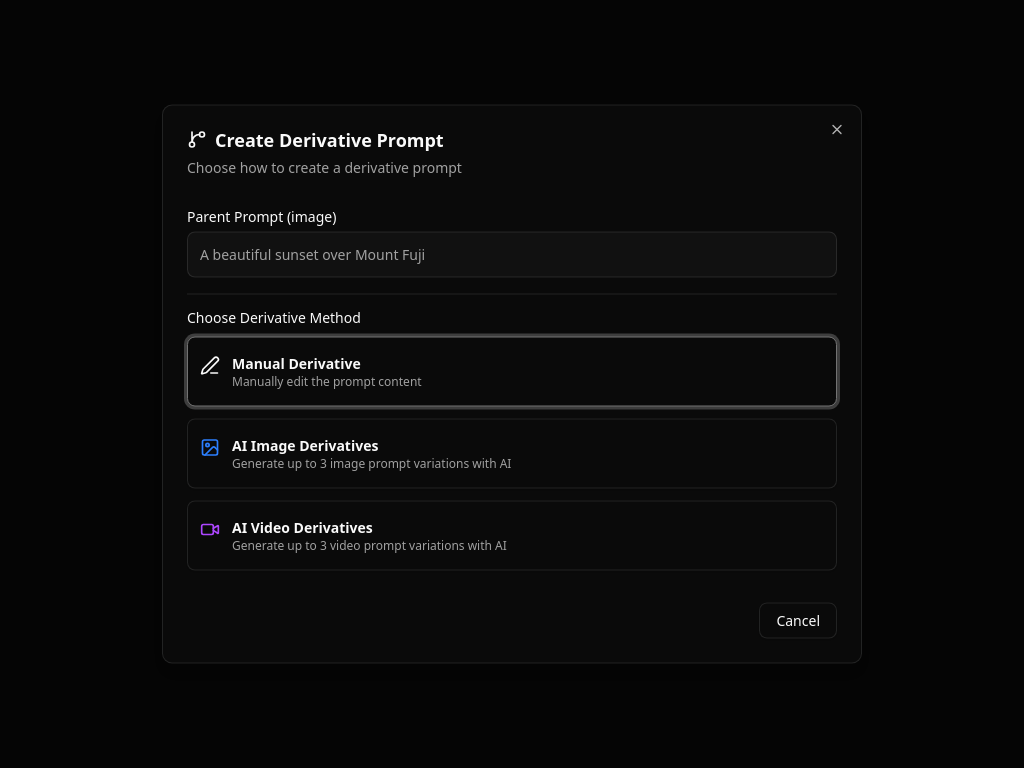
it: DerivativePromptModal › Manual Mode › should switch to manual mode when Manual Derivative is clicked
The width and height of the screenshot is (1024, 768).
Click the text "Manual Derivative" at [296, 363], box [232, 354, 361, 372]
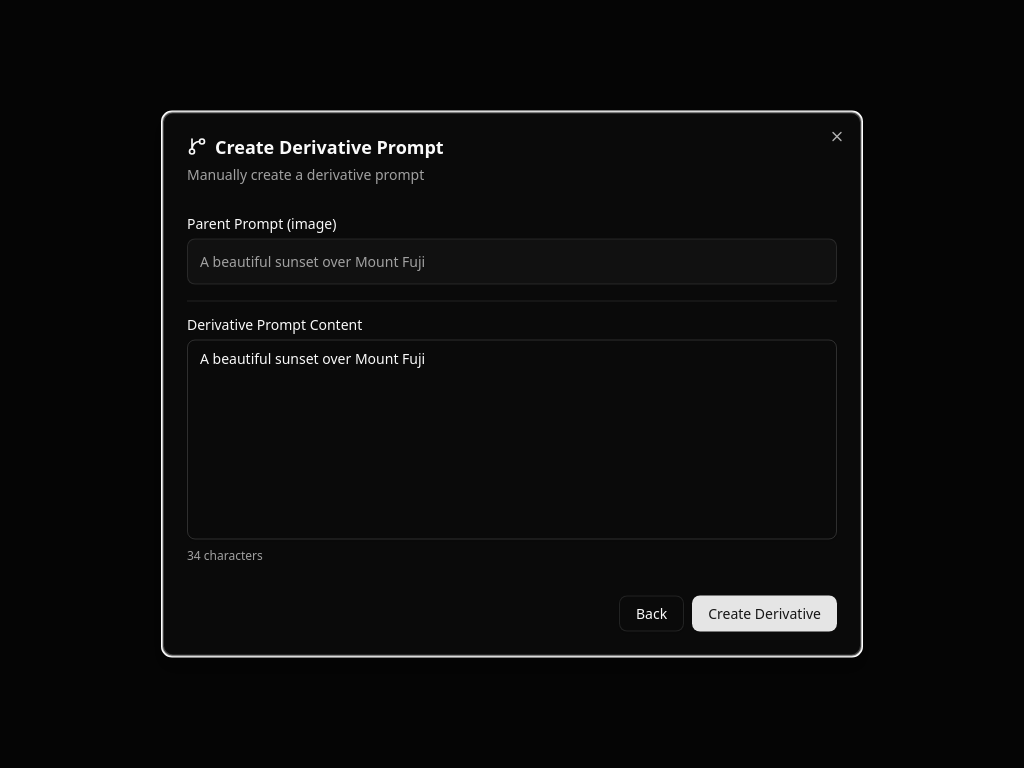
expect the text "Manually create a derivative prompt" is shown: met, box [187, 164, 424, 184]
expect the text box labelled "Derivative Prompt Content" is shown: met, box [187, 340, 837, 540]
